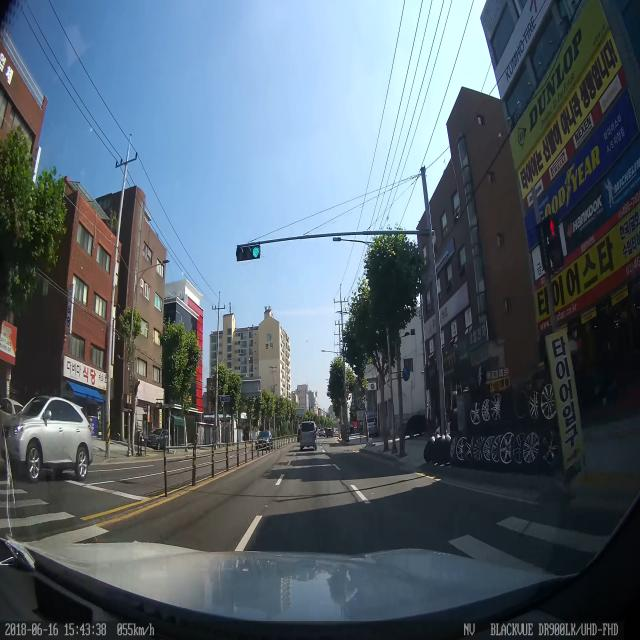Green Light: (252, 244, 260, 259)
